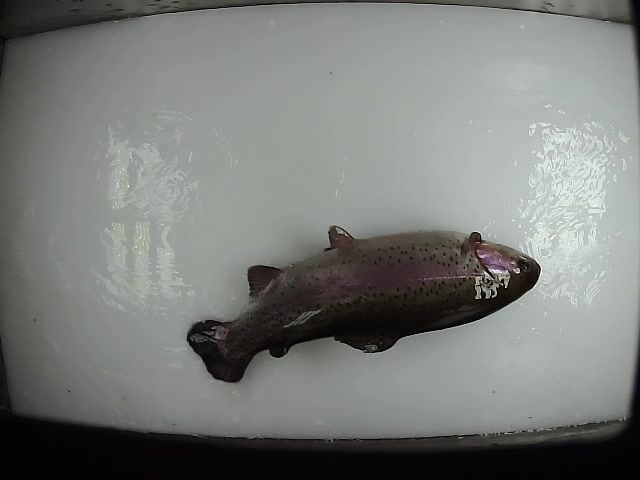fish: (181, 224, 544, 385)
